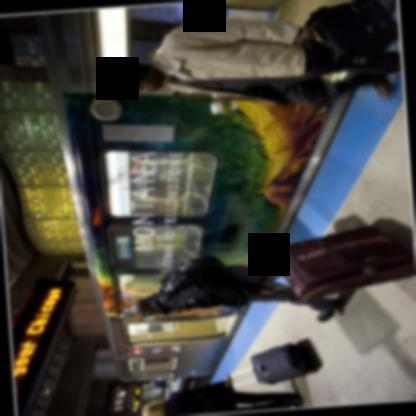backpack: (160, 251, 224, 292)
handbag: (300, 0, 398, 66)
suitcase: (274, 224, 415, 300), (306, 0, 402, 61), (227, 342, 318, 387)
